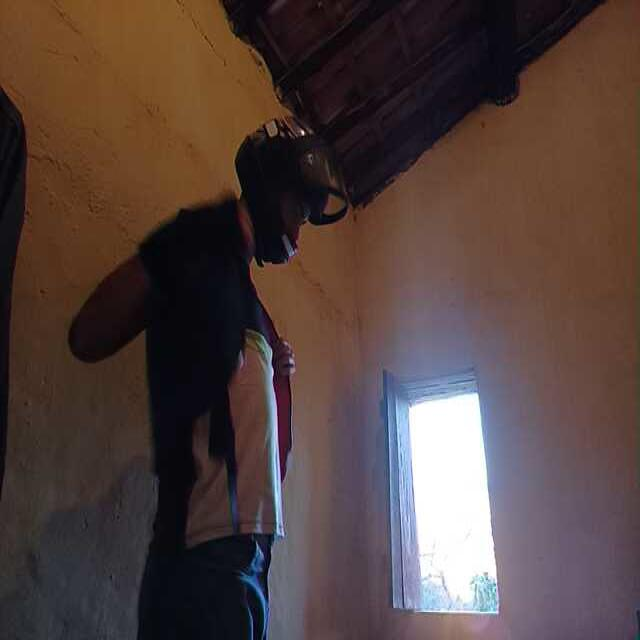capacete: (236, 117, 349, 251)
colete: (150, 216, 247, 504)
pessoa: (102, 118, 303, 640)
